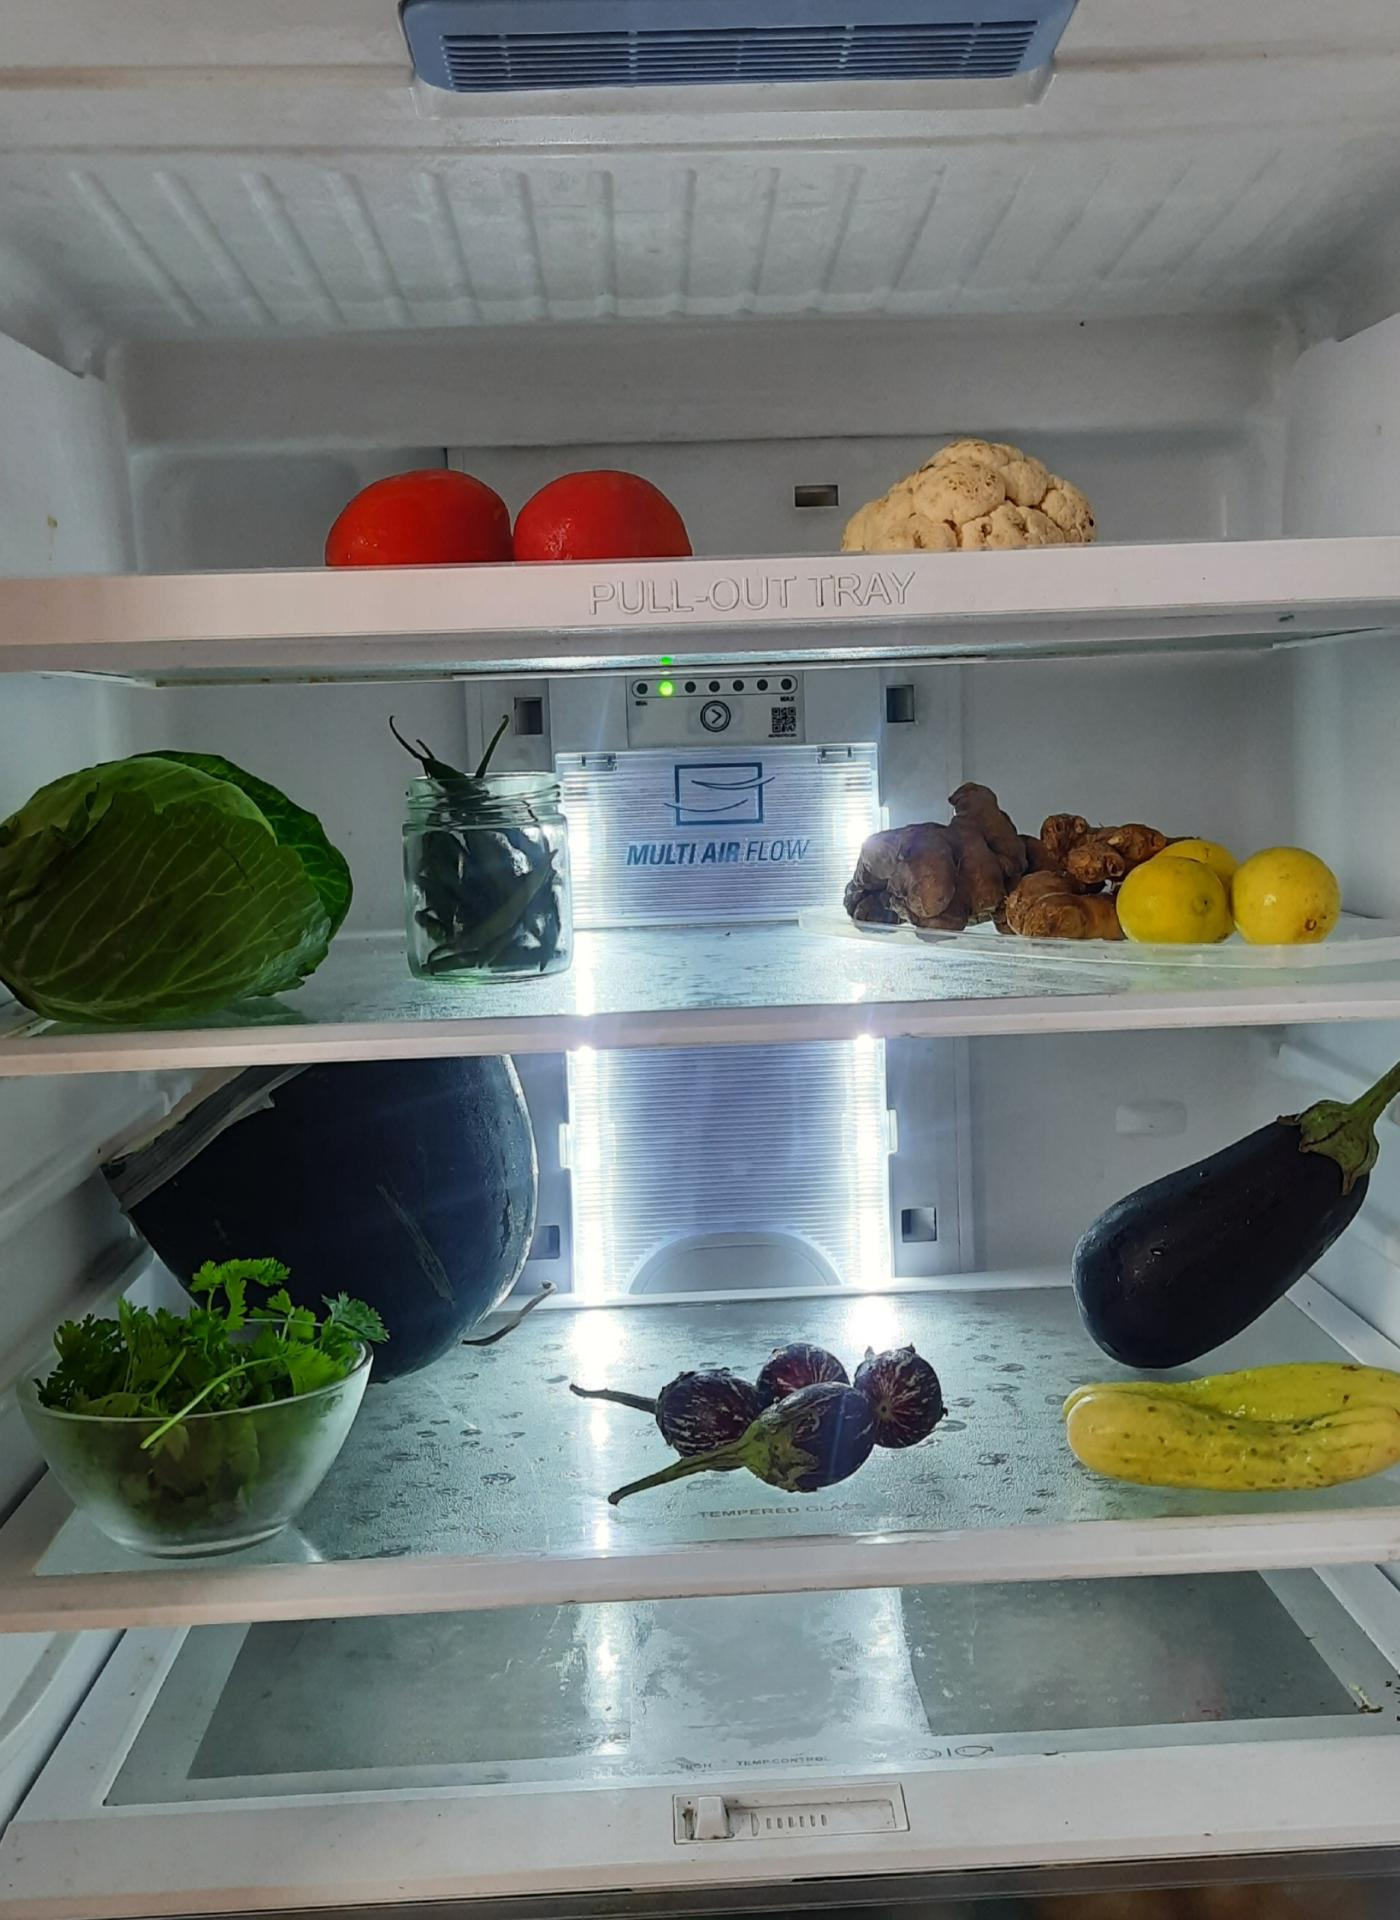brinjal: (1071, 1051, 1400, 1370), (616, 1336, 963, 1497)
cabbage: (0, 750, 358, 1017)
cauliflower: (832, 435, 1103, 553)
chillies: (401, 714, 565, 982)
coriander: (27, 1255, 370, 1523)
cucumber: (1051, 1371, 1396, 1506)
ginger: (842, 778, 1129, 950)
lemon: (1121, 835, 1355, 951)
tomato: (316, 467, 693, 571)
watermelon: (92, 1067, 543, 1386)
